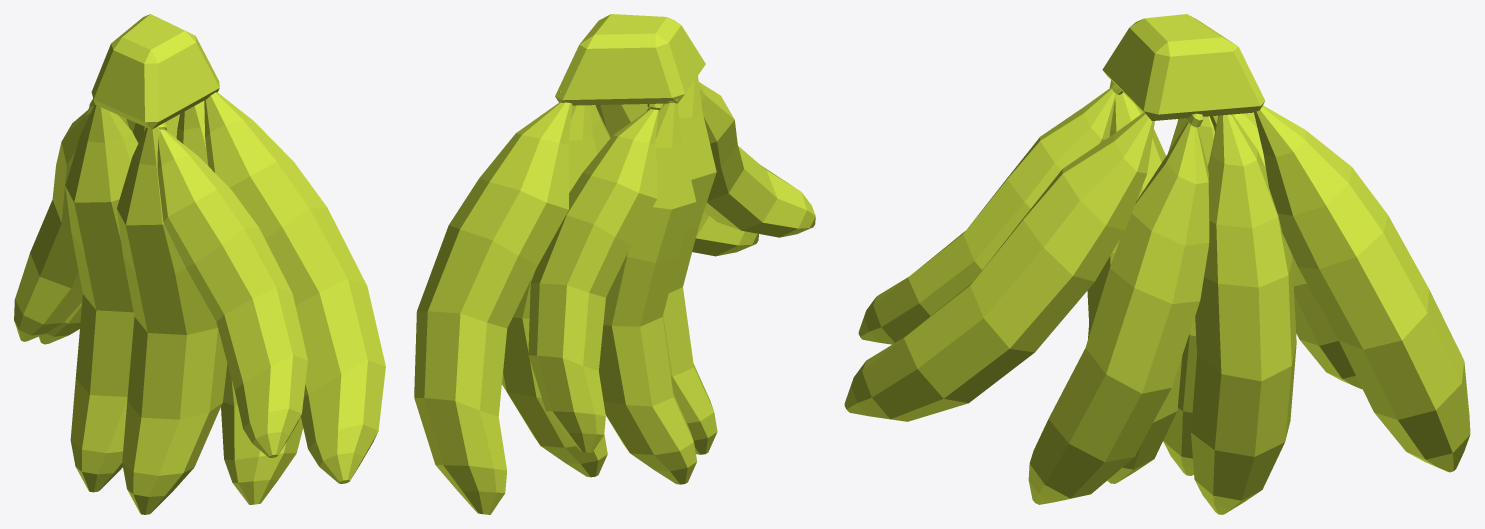
Rendered from fruit06.fbx.
3 renders of one model, left to right at view 1: azimuth 30°, elevation 25°; view 2: azimuth 150°, elevation 25°; view 3: azimuth 270°, elevation 25°, orthographic. The views are drawn at different scales.
Parts seen in each view (by area): view 1: Cylinder.010; view 2: Cylinder.010; view 3: Cylinder.010.
Boxes of the visible parts, box(x1,y1,x2,y2) form: Cylinder.010: box(14, 14, 385, 514); Cylinder.010: box(414, 14, 815, 514); Cylinder.010: box(844, 14, 1470, 514).
Size of the model in its own units: 0.114 by 0.2462 by 0.2952.
